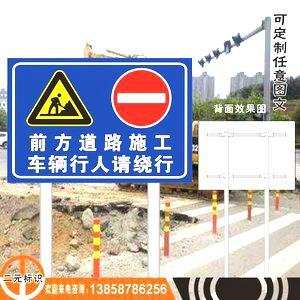sign: (10, 60, 187, 177)
